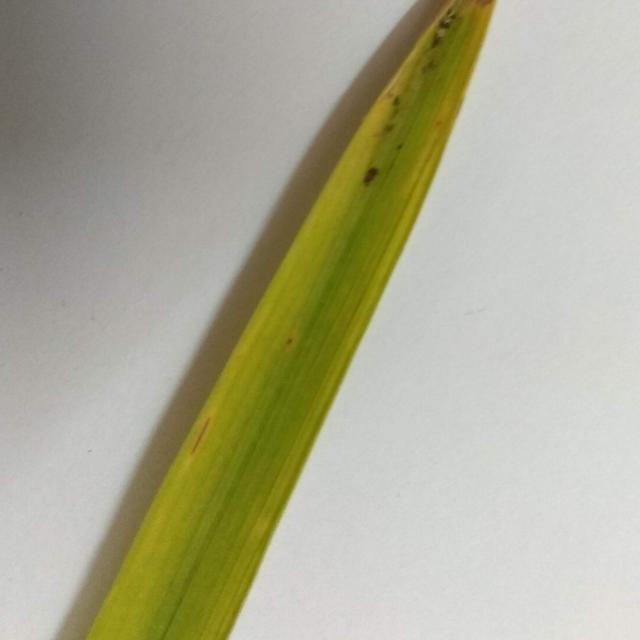Brown spot: (358, 75, 416, 143), (186, 408, 230, 476), (424, 4, 465, 52), (360, 161, 384, 186), (421, 54, 443, 78), (280, 326, 294, 352), (396, 138, 406, 157)
